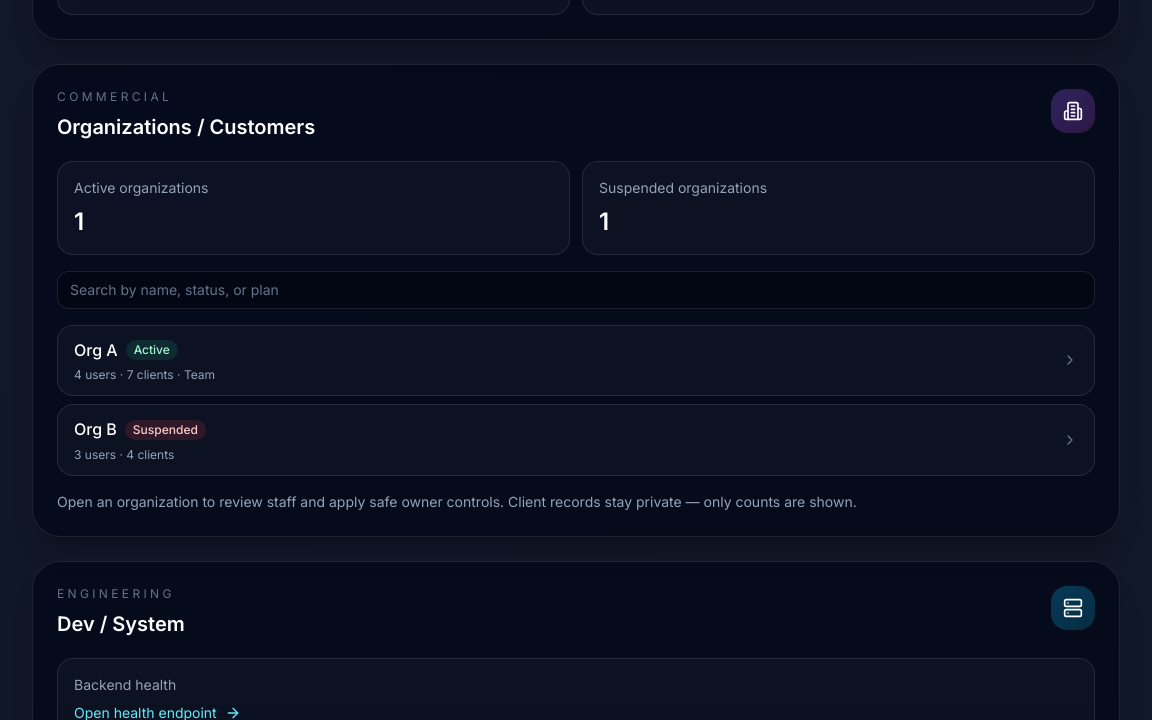
Test: Owner Cockpit organizations management › shows only a client COUNT and never a client detail list
This screenshot has width=1152, height=720.
(page scrolled)
Click the button "Org A Active 4 users · 7 clients · Team" at x=96, y=350, box [57,325,1095,396]
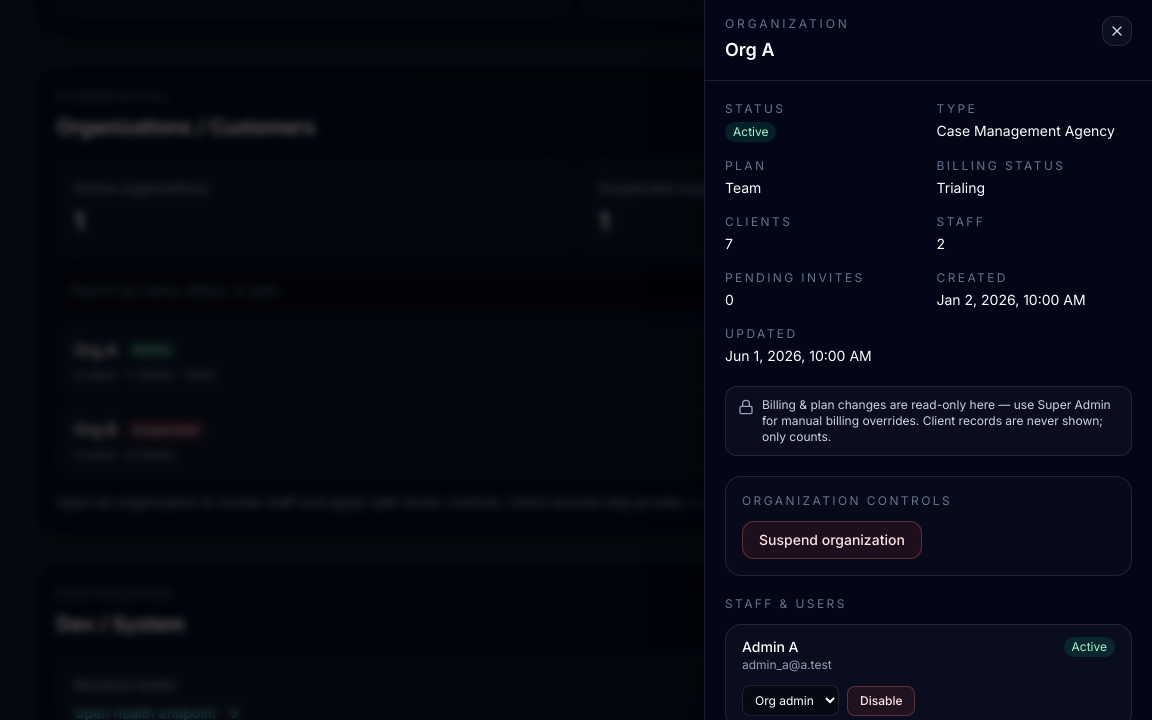
Now the text "Clients" is shown, box [725,214,792,229]
Now the text "7" is shown, box [725,235,733,252]
